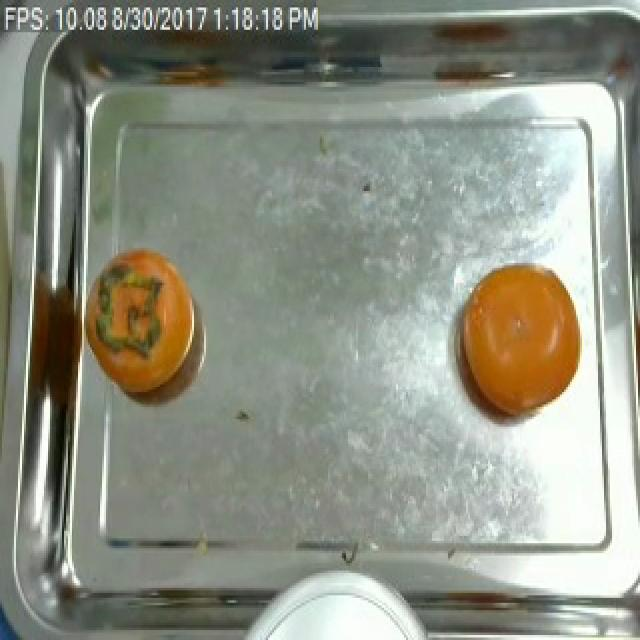Fruit: (448, 253, 590, 427), (88, 233, 208, 419)
